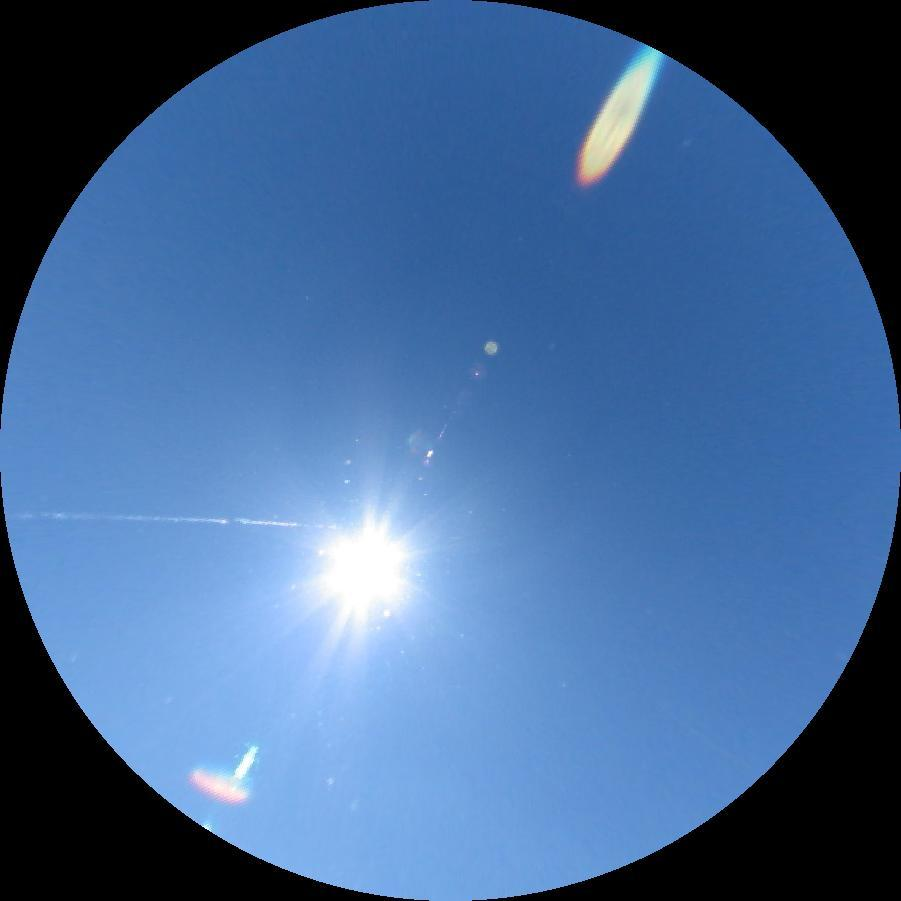parasite: (5, 509, 335, 529)
sun: (303, 509, 428, 635)
